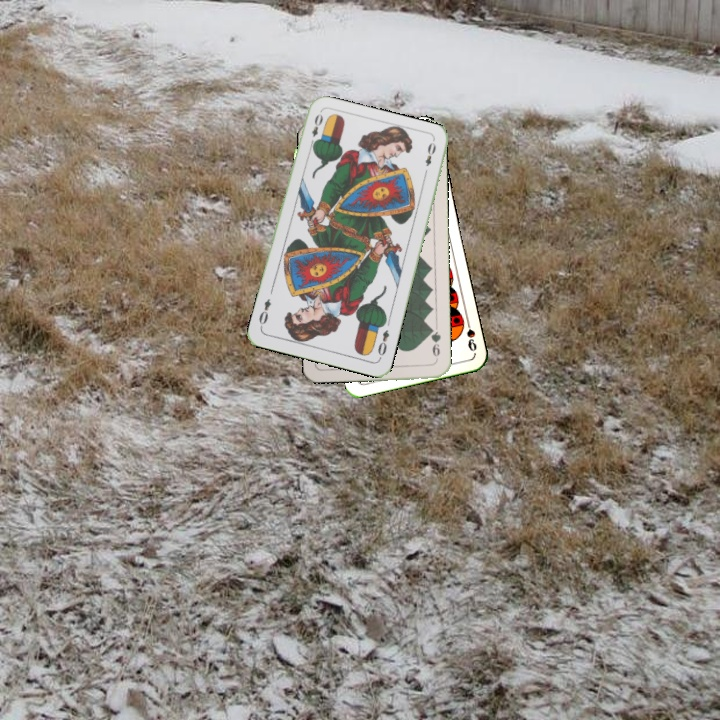EO: (306, 110, 325, 149), (374, 326, 392, 361)
G9: (426, 323, 443, 363)
S9: (462, 315, 479, 354)
